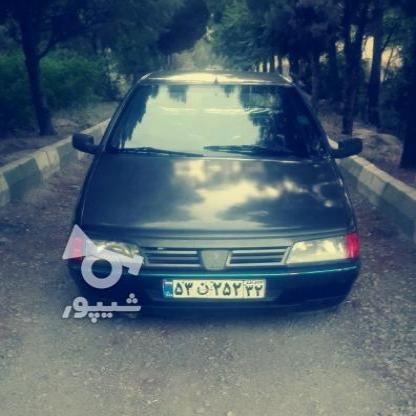licence: (160, 278, 267, 297)
